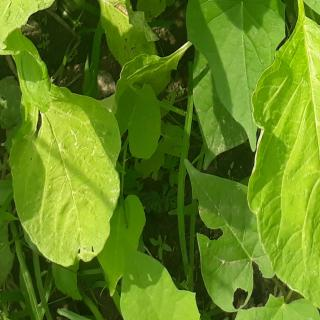virus_keriting: (0, 0, 116, 53)
